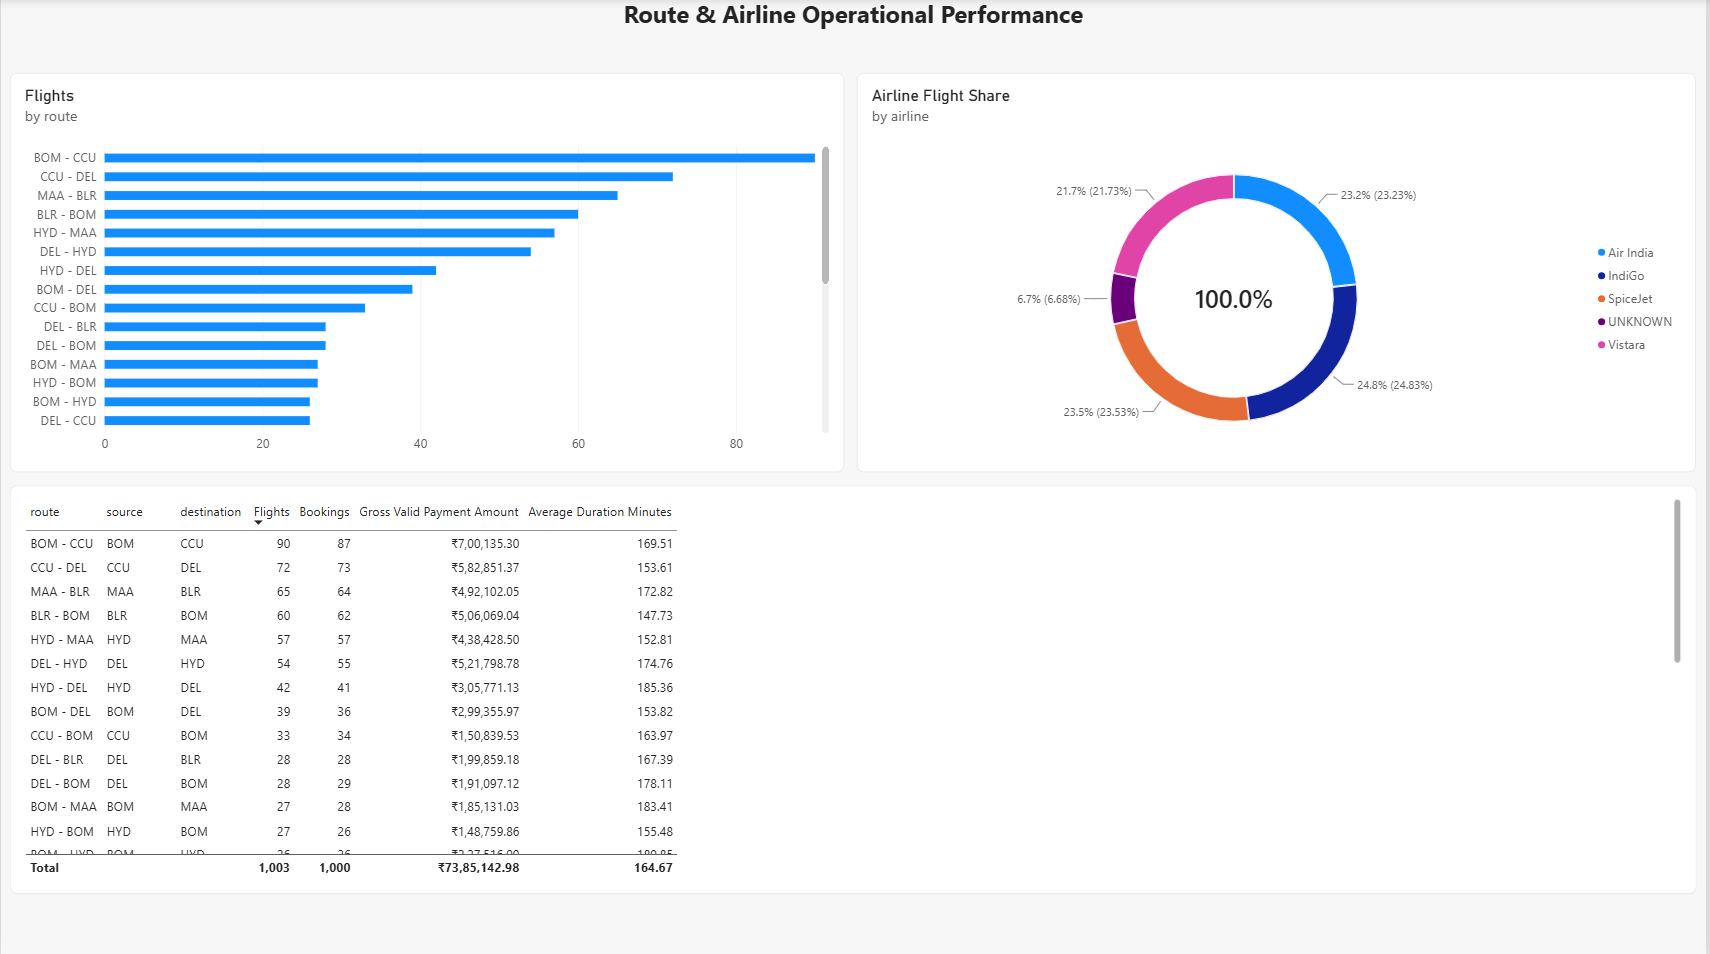

The page's visual inventory and layout, read from the dashboard file:
{"tool":"powerbi","page":{"name":"Route & Airline Performance","canvas":[1920,1080],"ordinal":2},"visuals":[{"type":"textbox","box":[10,0,1900,70],"z":0},{"type":"clusteredBarChart","fields":{"Category":["dim_route.route"],"Y":["_Measures.Flights"]},"box":[10,85,940,450],"z":100},{"type":"donutChart","fields":{"Category":["dim_airline.airline"],"Y":["_Measures.Airline Flight Share"]},"box":[965,85,945,450],"z":110},{"type":"tableEx","fields":{"Values":["dim_route.route","dim_route.source","dim_route.destination","_Measures.Flights","_Measures.Bookings","_Measures.Gross Valid Payment Amount","_Measures.Average Duration Minutes"]},"box":[10,550,1900,460],"z":120}]}

Visuals, with their boxes in screenshot pixels (x1, y1, x2, y2), scaled from the page's 1920x1080 canvas onto the 1710x954 screenshot:
textbox: BBox(9, 0, 1701, 62)
clusteredBarChart - dim_route.route x _Measures.Flights: BBox(9, 75, 846, 473)
donutChart - dim_airline.airline x _Measures.Airline Flight Share: BBox(859, 75, 1701, 473)
tableEx - dim_route.route x dim_route.source: BBox(9, 486, 1701, 892)
